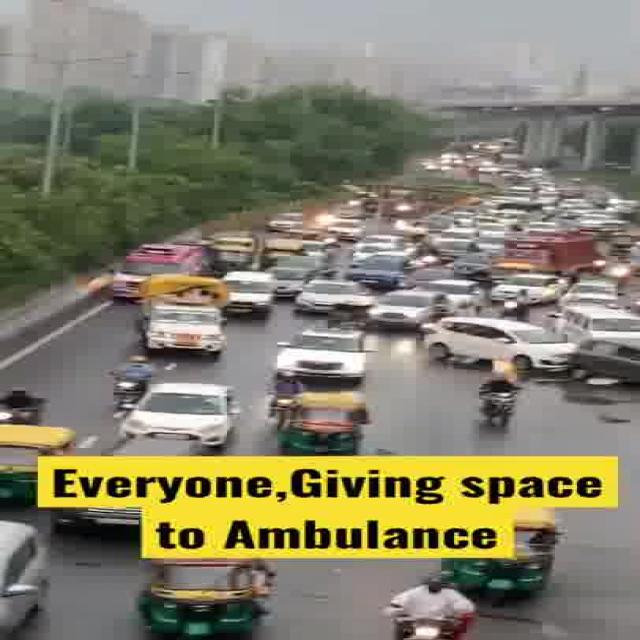ambulance: (108, 242, 208, 296)
